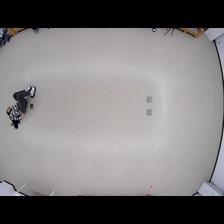fall: (6, 85, 37, 129)
